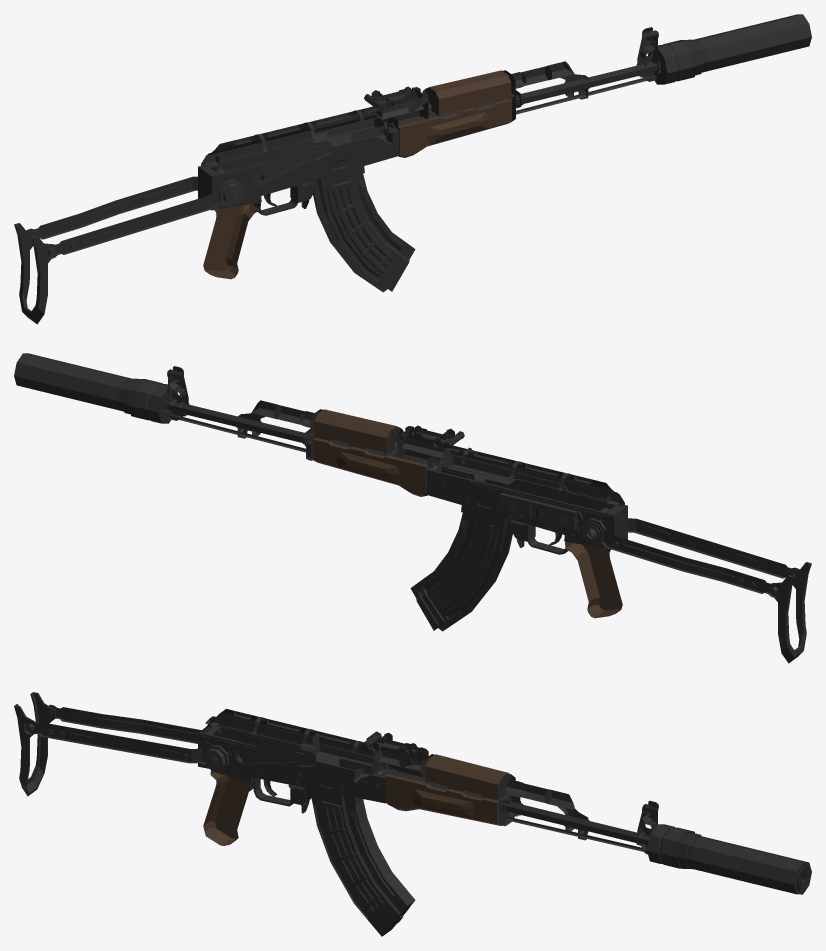
File: rifle_spetsnaz_akmnsb.glb
3 renders of one model, top to bottom at view 1: azimuth 30°, elevation 25°; view 2: azimuth 150°, elevation 25°; view 3: azimuth 330°, elevation 25°, orthographic.
Visible parts, largest first — view 1: AKMNSB_0; view 2: AKMNSB_0; view 3: AKMNSB_0.
Part boxes in pixels (bbox=[...]): AKMNSB_0: bbox=[14, 14, 811, 324]; AKMNSB_0: bbox=[14, 353, 811, 663]; AKMNSB_0: bbox=[14, 692, 811, 936].
Size of the model in its own units: 5.81 by 1.4 by 0.4232.
